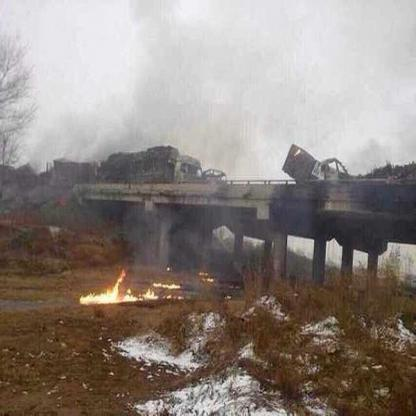fire: (73, 249, 241, 314)
